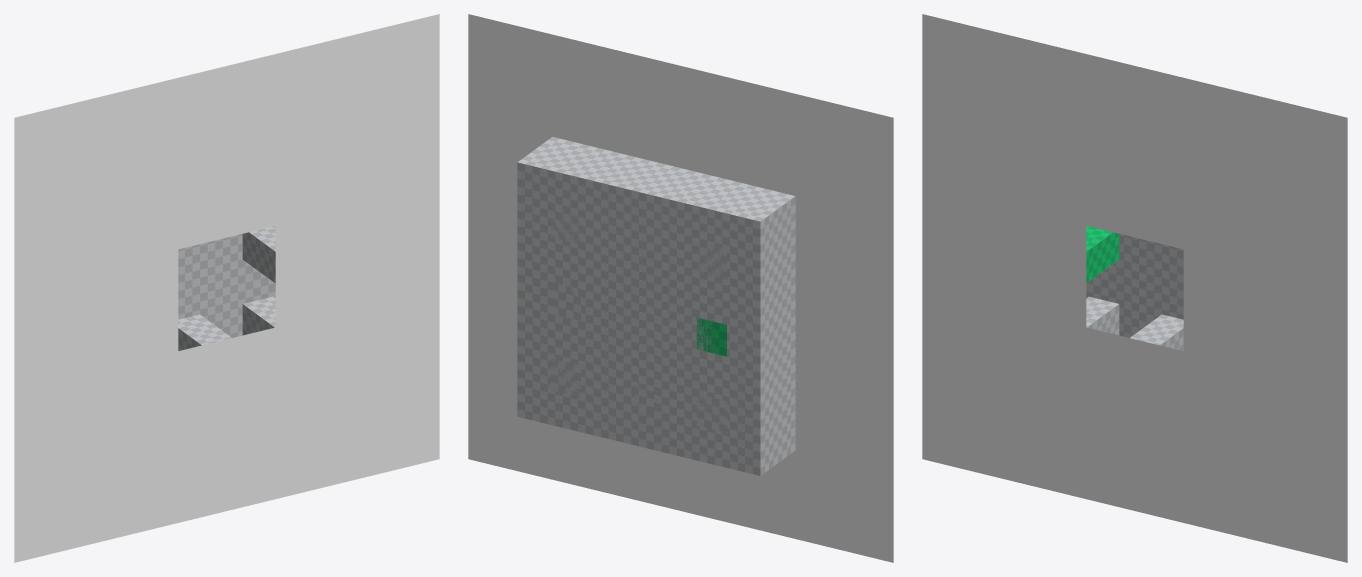
Rendered from tile-game-room4.glb.
The picture shows the model from 3 angles, left to right: view 1: azimuth 30°, elevation 25°; view 2: azimuth 150°, elevation 25°; view 3: azimuth 330°, elevation 25°; orthographic projection.
Parts seen in each view (by area): view 1: Cover, Base, Posts; view 2: Cover, Base, Posts; view 3: Cover, Base, Posts.
Boxes of the visible parts, x1,y1,x2,y2 form: Cover: (14, 14, 439, 562); Base: (178, 234, 275, 337); Posts: (178, 226, 275, 350); Cover: (468, 14, 893, 562); Base: (517, 137, 795, 475); Posts: (550, 207, 726, 432); Cover: (922, 14, 1347, 562); Base: (1086, 234, 1183, 337); Posts: (1086, 226, 1183, 350).
Bounding box in the file's own units: 14 × 14 × 2.4.
Materials: 3 (2 with a texture image).
